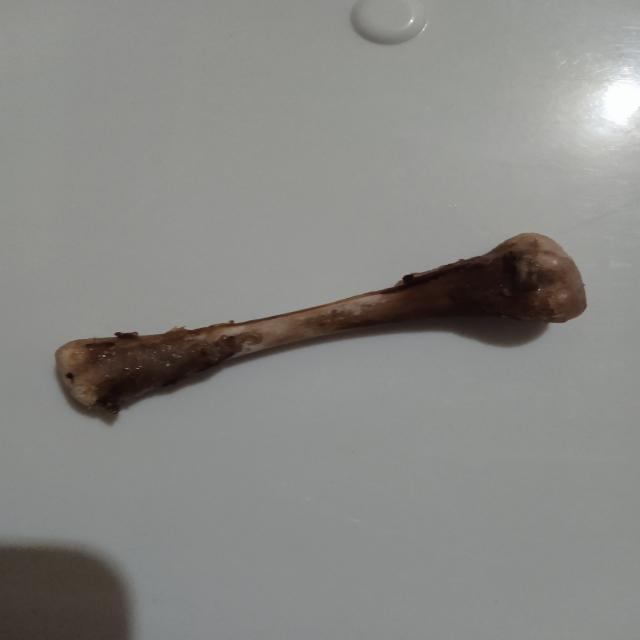bone: (50, 228, 598, 427)
